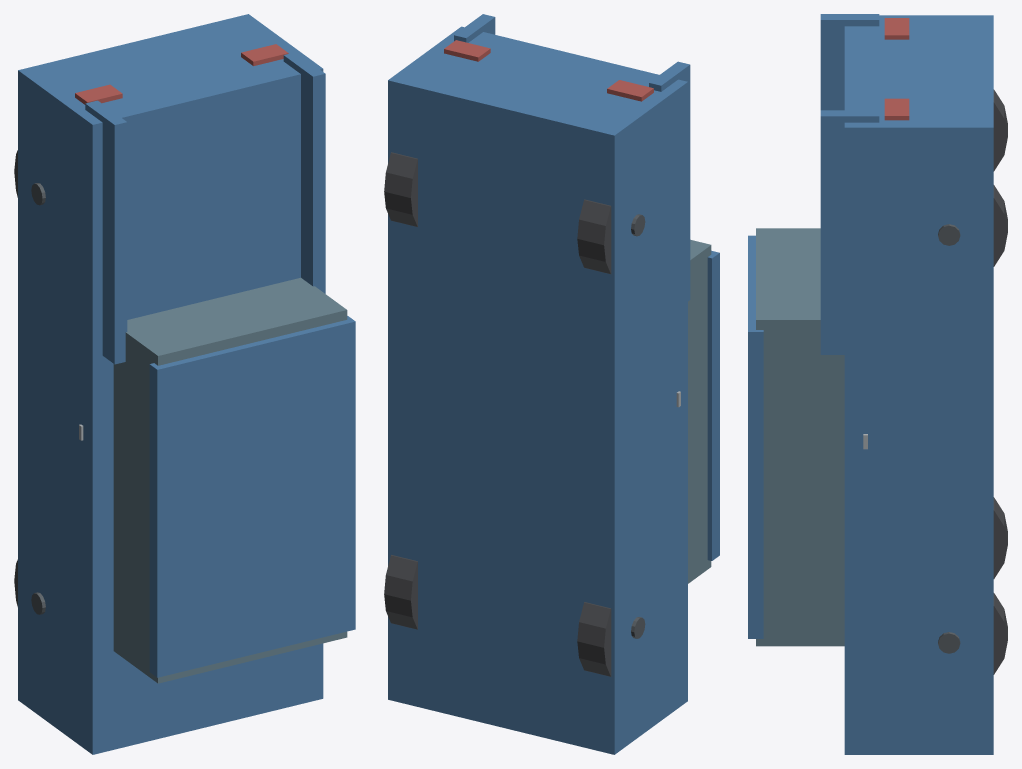
Rendered from small_pickup.glb.
The picture shows the model from 3 angles, left to right: view 1: azimuth 30°, elevation 25°; view 2: azimuth 150°, elevation 25°; view 3: azimuth 270°, elevation 25°; orthographic projection.
Parts seen in each view (by area): view 1: 0000_Car_body, 0003_Roof, 0002_Cabin_glass, 0005_Bed_side, 0006_Bed_side, 0012_Tail_lamp, 0010_Tail_lamp; view 2: 0000_Car_body, 0002_Cabin_glass, 0003_Roof, 0015_Wheel_tire, 0021_Wheel_tire, 0018_Wheel_tire, 0024_Wheel_tire, 0005_Bed_side, 0006_Bed_side, 0012_Tail_lamp, 0010_Tail_lamp; view 3: 0000_Car_body, 0002_Cabin_glass, 0006_Bed_side, 0003_Roof, 0005_Bed_side, 0015_Wheel_tire, 0018_Wheel_tire, 0021_Wheel_tire, 0024_Wheel_tire, 0012_Tail_lamp, 0010_Tail_lamp.
Boxes of the visible parts, x1,y1,x2,y2 form: 0000_Car_body: (18, 14, 323, 754); 0003_Roof: (149, 316, 355, 677); 0002_Cabin_glass: (113, 277, 347, 683); 0005_Bed_side: (85, 100, 127, 364); 0006_Bed_side: (283, 52, 325, 293); 0012_Tail_lamp: (241, 44, 288, 66); 0010_Tail_lamp: (75, 84, 122, 104); 0000_Car_body: (388, 26, 687, 754); 0002_Cabin_glass: (688, 239, 711, 583); 0003_Roof: (707, 250, 719, 560); 0015_Wheel_tire: (577, 602, 611, 676); 0021_Wheel_tire: (577, 199, 611, 274); 0018_Wheel_tire: (384, 555, 417, 629); 0024_Wheel_tire: (384, 152, 417, 226); 0005_Bed_side: (649, 61, 690, 301); 0006_Bed_side: (454, 14, 495, 42); 0012_Tail_lamp: (444, 40, 490, 61); 0010_Tail_lamp: (607, 80, 653, 101); 0000_Car_body: (844, 15, 993, 754); 0002_Cabin_glass: (756, 228, 844, 646); 0006_Bed_side: (820, 110, 879, 354); 0003_Roof: (748, 235, 763, 638); 0005_Bed_side: (820, 14, 879, 110); 0015_Wheel_tire: (993, 497, 1007, 578); 0018_Wheel_tire: (993, 593, 1007, 674); 0021_Wheel_tire: (993, 89, 1007, 171); 0024_Wheel_tire: (993, 185, 1007, 266); 0012_Tail_lamp: (884, 98, 909, 120); 0010_Tail_lamp: (884, 18, 909, 39).
Bounding box in the file's own units: 2.09 × 5.42 × 1.99.
